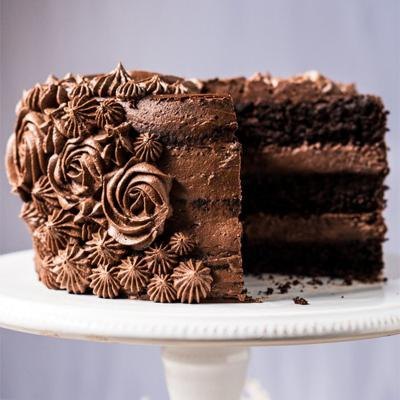cake: (12, 67, 393, 301)
